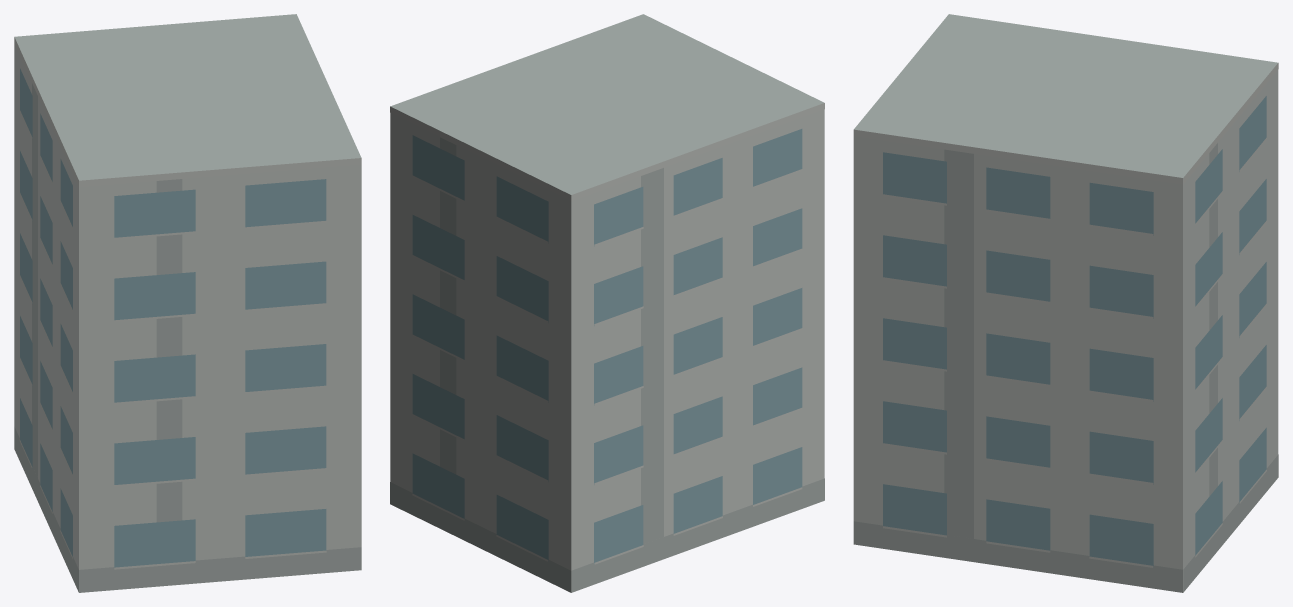
The model's file is residential-9236e495-fe09-4a83-9811-cf8ad9eecda8.glb.
The picture shows the model from 3 angles, left to right: view 1: azimuth 30°, elevation 25°; view 2: azimuth 150°, elevation 25°; view 3: azimuth 270°, elevation 25°; orthographic projection. The views are drawn at different scales.
Parts seen in each view (by area): view 1: residential-9236e495-fe09-4a83-9811-cf8ad9eecda8.tmp; view 2: residential-9236e495-fe09-4a83-9811-cf8ad9eecda8.tmp; view 3: residential-9236e495-fe09-4a83-9811-cf8ad9eecda8.tmp.
Boxes of the visible parts, bbox=[...] form: residential-9236e495-fe09-4a83-9811-cf8ad9eecda8.tmp: bbox=[14, 14, 361, 592]; residential-9236e495-fe09-4a83-9811-cf8ad9eecda8.tmp: bbox=[390, 14, 824, 592]; residential-9236e495-fe09-4a83-9811-cf8ad9eecda8.tmp: bbox=[853, 14, 1278, 592].
Size of the model in its own units: 12.94 by 15.25 by 14.16.
